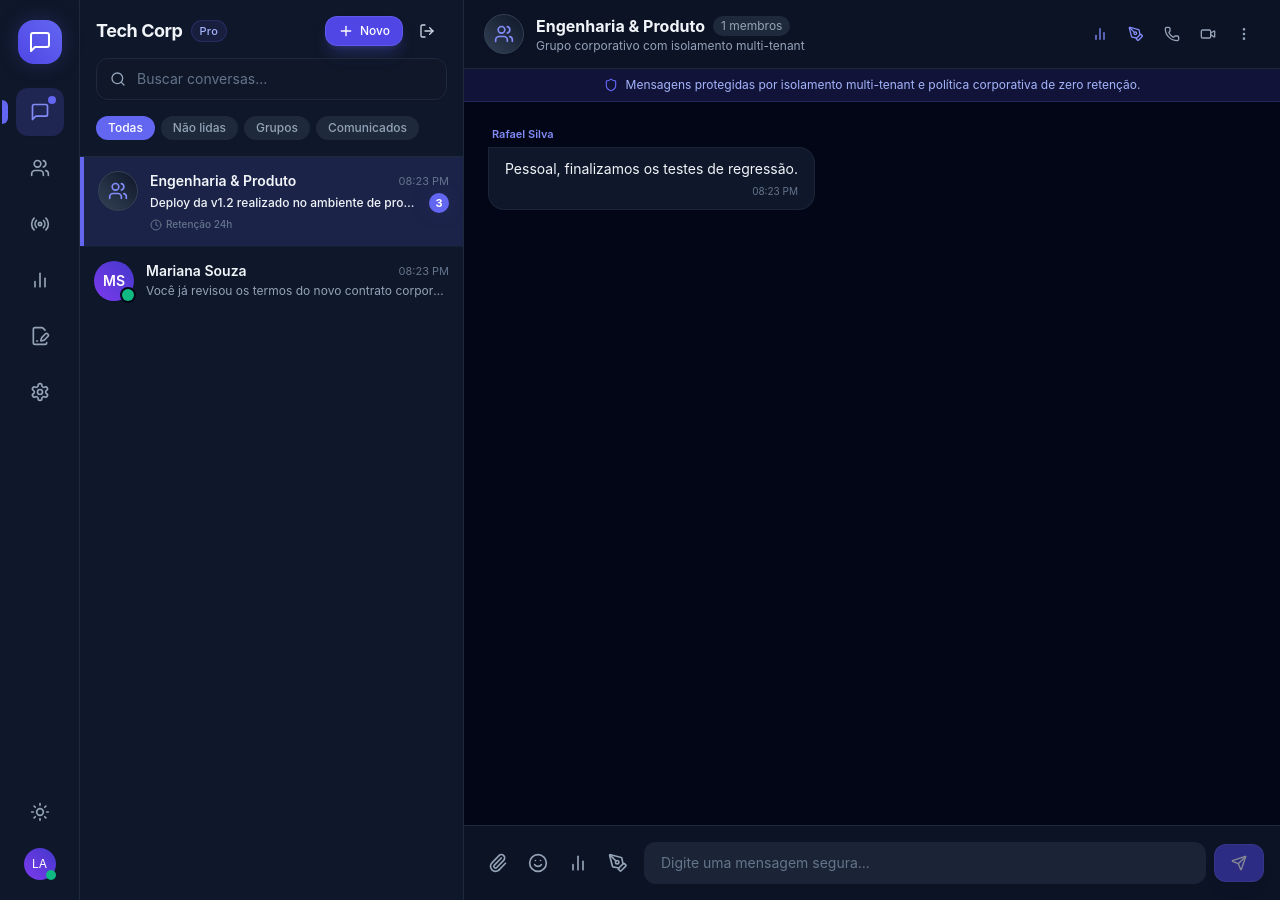
Scenario: Corporate Messenger App & ChatPage (T-11 / T-12 / T-13 / T-14) › opens and closes new group modal
What coordinates should you click on to do the following:
click the button "Novo"
I would click on:
 (364, 31)
Its box is [325,16,403,46].
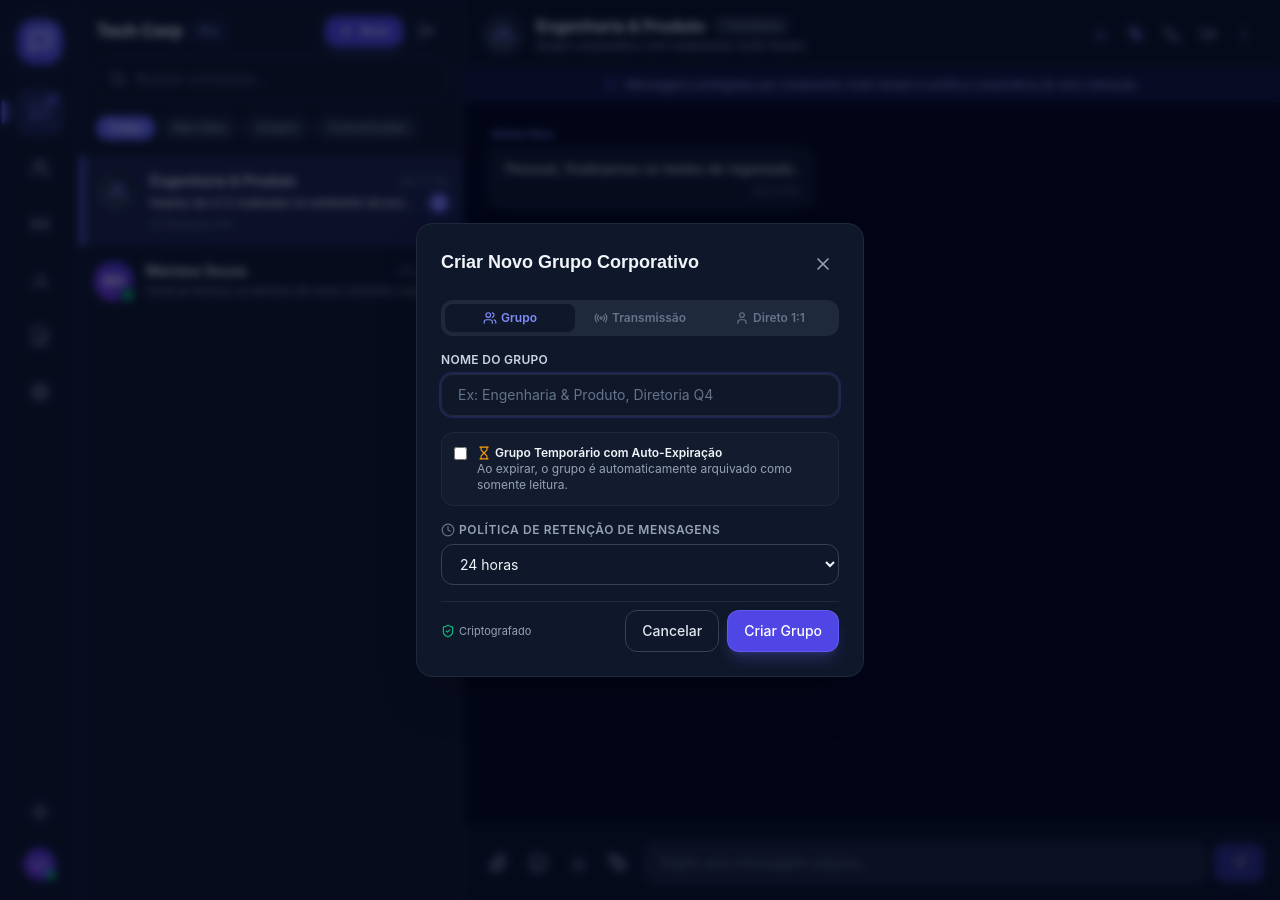
Expected: the heading "Criar Novo Grupo Corporativo" is shown, [441,248,699,276]
What coordinates should you click on to do the following:
click the button "Cancelar"
I would click on:
 (672, 631)
Its box is [625,610,719,652].
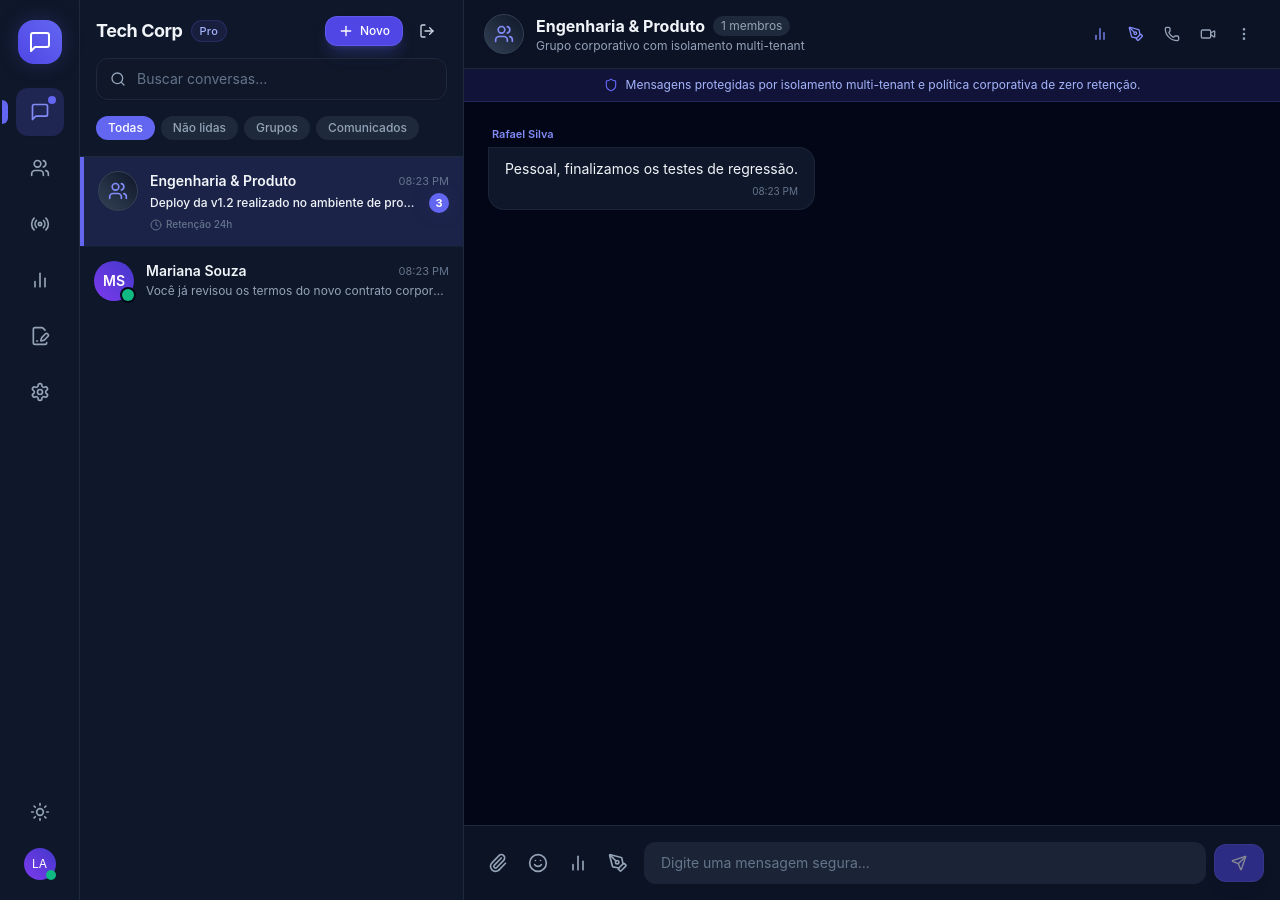
Expected: the heading "Criar Novo Grupo Corporativo" is gone
